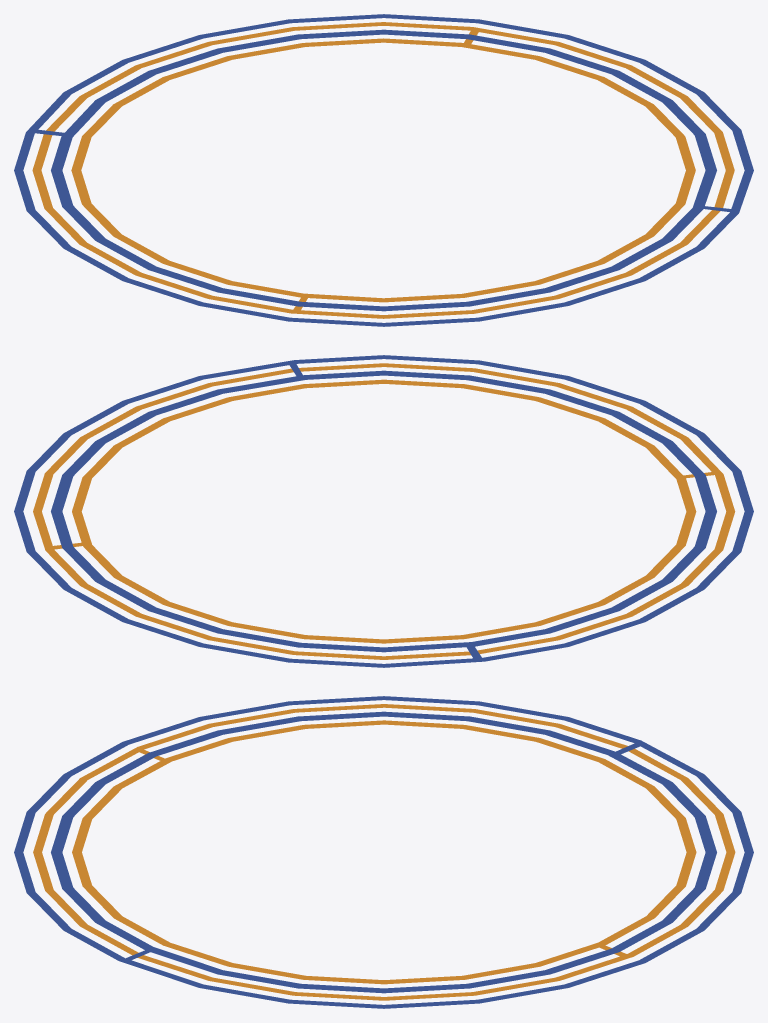
Rendered from HTC_CircularBase.glb.
3 views of the same model, one above another, from view 1: azimuth 30°, elevation 25°; view 2: azimuth 150°, elevation 25°; view 3: azimuth 270°, elevation 25° (orthographic).
Parts seen in each view (by area): view 1: HTC_CircularBase; view 2: HTC_CircularBase; view 3: HTC_CircularBase.
Boxes of the visible parts, x1,y1,x2,y2 form: HTC_CircularBase: [14, 14, 753, 326]; HTC_CircularBase: [14, 355, 753, 667]; HTC_CircularBase: [14, 696, 753, 1008].
Size of what is drawn, in the model's own units: 4.05 by 3.3e-06 by 4.05.
Materials: 1 (1 with a texture image).
